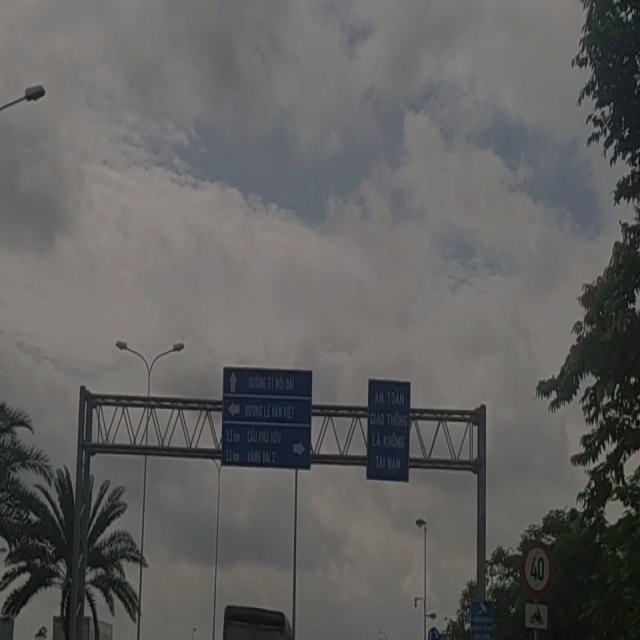P.127*40: (520, 538, 554, 598)
S.505a*Xe may: (523, 598, 549, 630)
